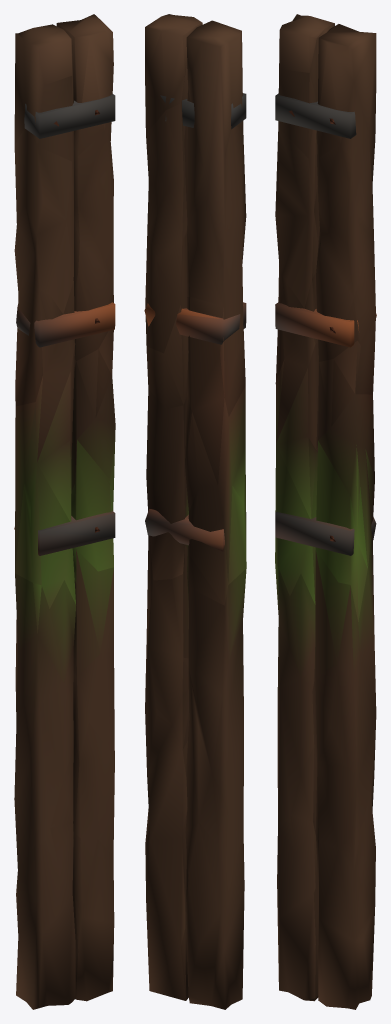
File: mire_barrel_stave_lod2.glb
The picture shows the model from 3 angles, left to right: view 1: azimuth 30°, elevation 25°; view 2: azimuth 150°, elevation 25°; view 3: azimuth 330°, elevation 25°; orthographic projection.
Parts seen in each view (by area): view 1: mire_barrel_stave.001; view 2: mire_barrel_stave.001; view 3: mire_barrel_stave.001.
Boxes of the visible parts, <box> form: mire_barrel_stave.001: <box>14,14,115,1009</box>; mire_barrel_stave.001: <box>144,14,246,1009</box>; mire_barrel_stave.001: <box>275,14,376,1009</box>.
Bounding box in the file's own units: 6.82 × 74.29 × 3.49.
